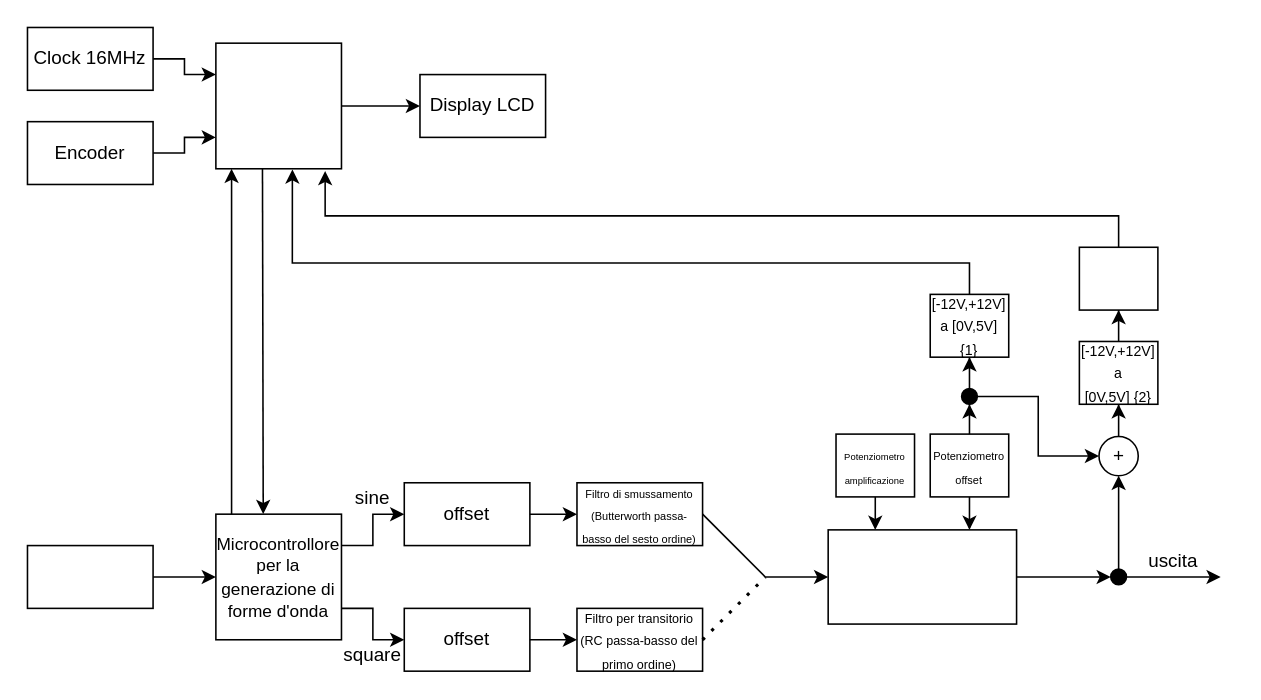
Some shapes in this 1261 by 700 pixel diagram are drawn without their labels. Each missing label, with the centre of its shape:
"Amplificazione e offset" goes at point 922,576.
"Microcontrollore per gestione interfaccia utente" goes at point 277,105.
"PSU" goes at point 89,576.
"Rilevatore di picco" goes at point 1118,278.
